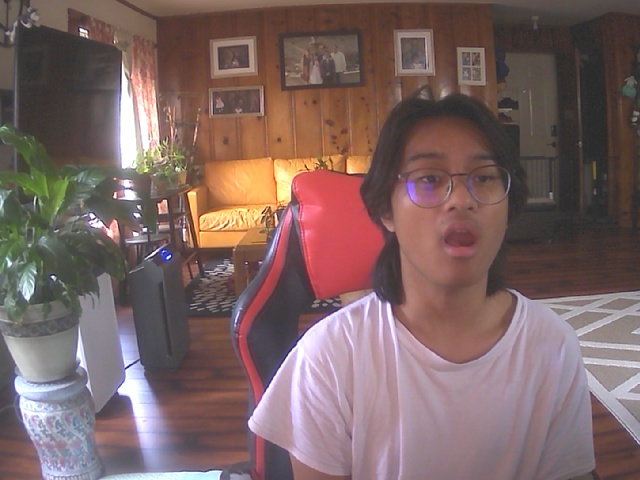fear: (378, 105, 519, 288)
